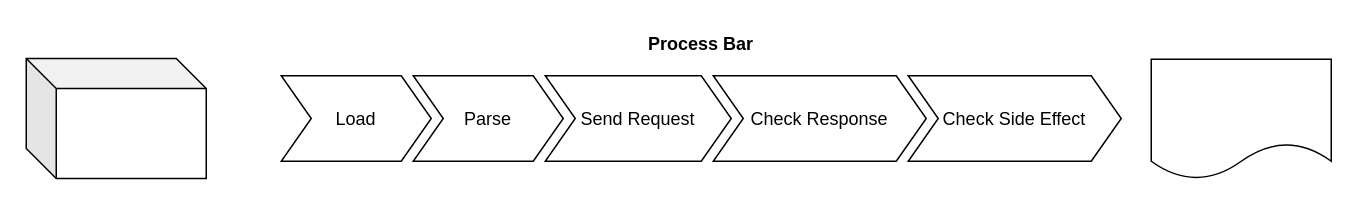
Some shapes in this 1358 by 206 pixel diagram are drawn without their labels. The box of each missing label's shape, as (x1, y1, x2, y2) in pixels:
JSON: (25, 57, 206, 178)
Test Result: (1150, 58, 1331, 179)
